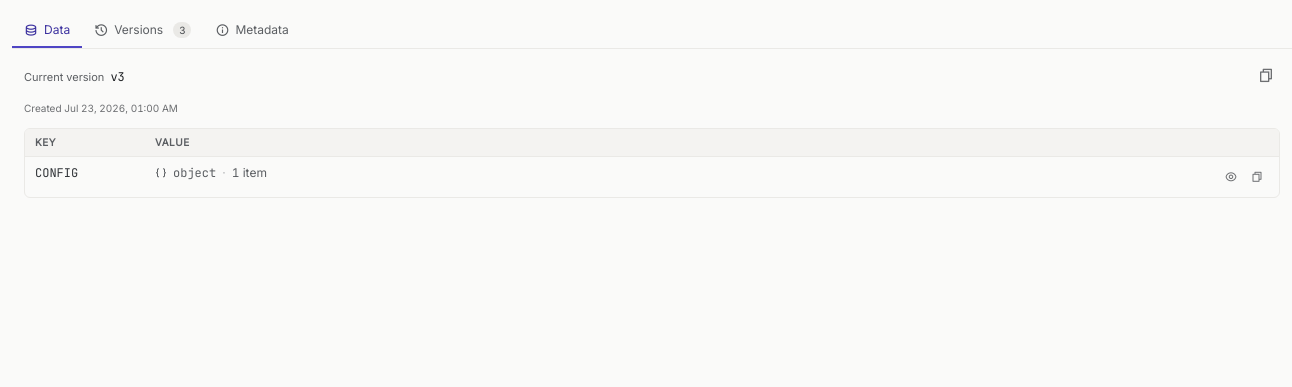
Test: Inspector copy helpers › disables .env export with a reason when values are not flat strings
The image size is (1292, 387).
Click the button named "Copy options" at [1266, 75], box [1252,61,1280,89]
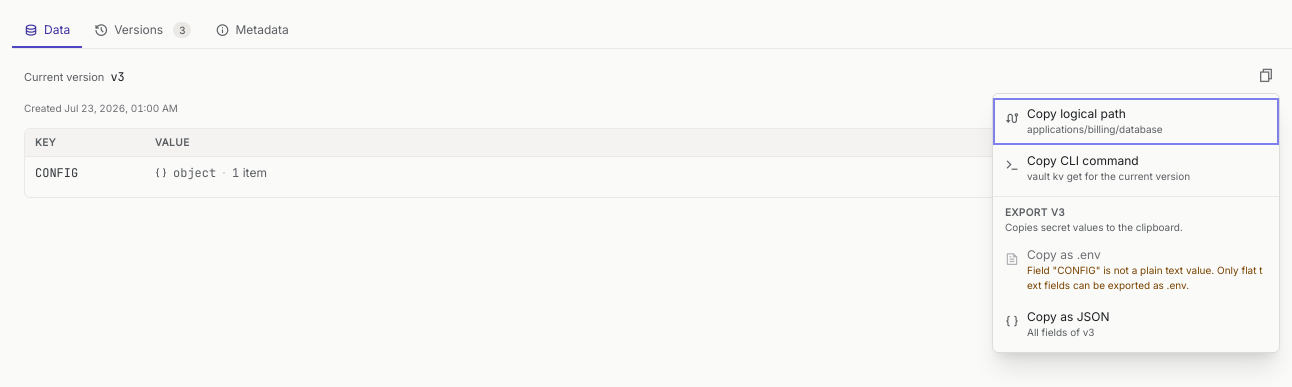
expect the menu item "Copy as .env" is disabled: met, box [993,239,1279,301]
expect the menu item "Copy as .env" shows "Field \"CONFIG\" is not a plain text value": met, box [993,239,1279,301]
expect the menu item "Copy as JSON All fields of v3" is enabled: met, box [993,301,1279,348]
Press Escape
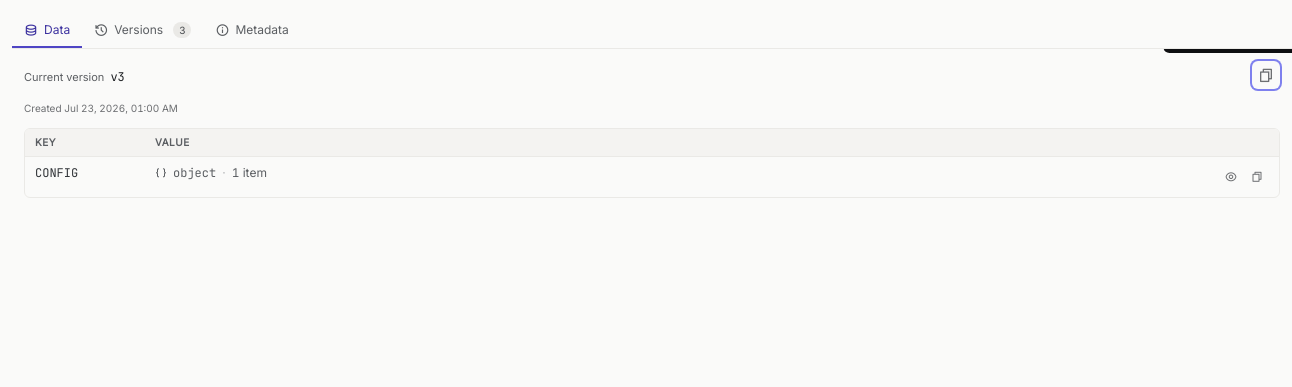
expect the menu is gone: met
